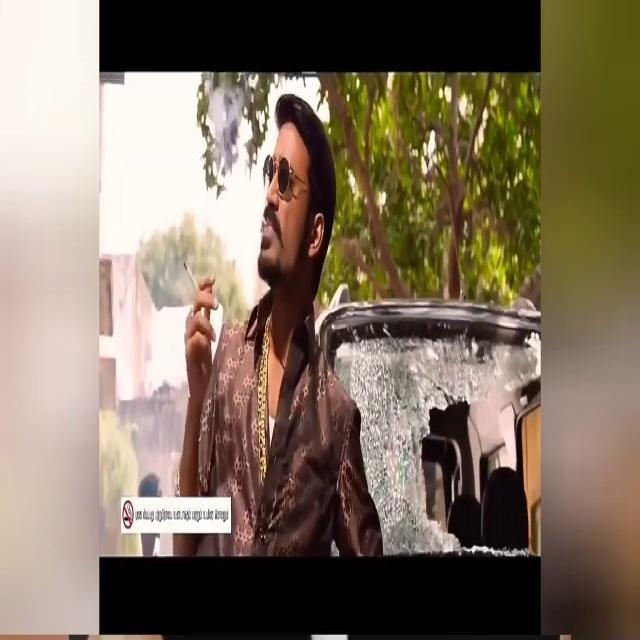smoking: (154, 115, 326, 395)
